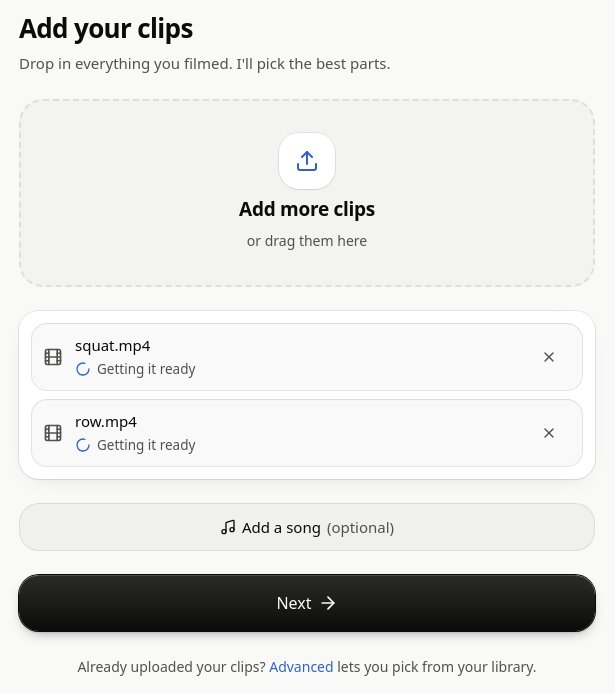
Scenario: 'Change' on the last screen goes to that question and comes straight back
Earlier steps of the test are not shown.
Click the button "Next" at {"x": 307, "y": 602}, box [19, 574, 595, 630]
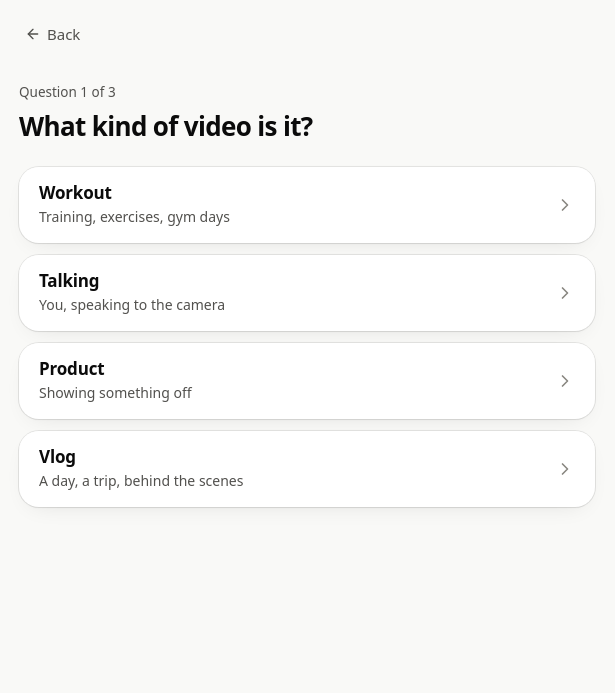
Click the button "Workout Training, exercises, gym days" at {"x": 75, "y": 192}, box [19, 166, 595, 242]
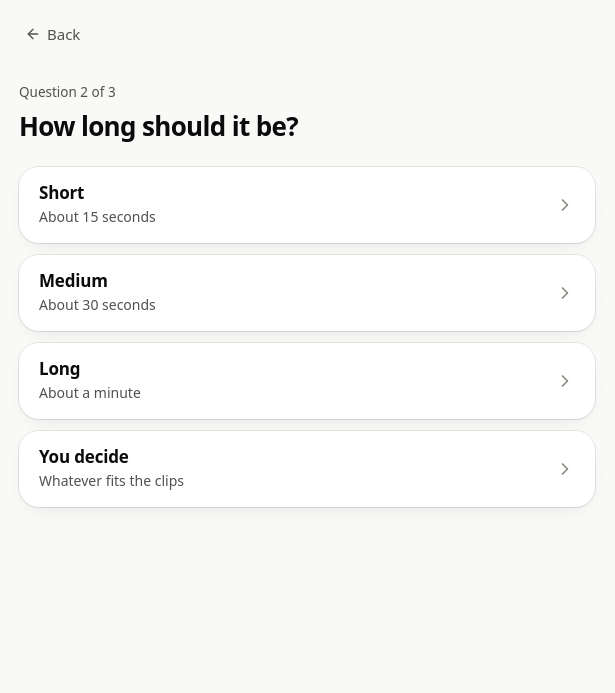
Click the button "Medium About 30 seconds" at {"x": 73, "y": 280}, box [19, 254, 595, 330]
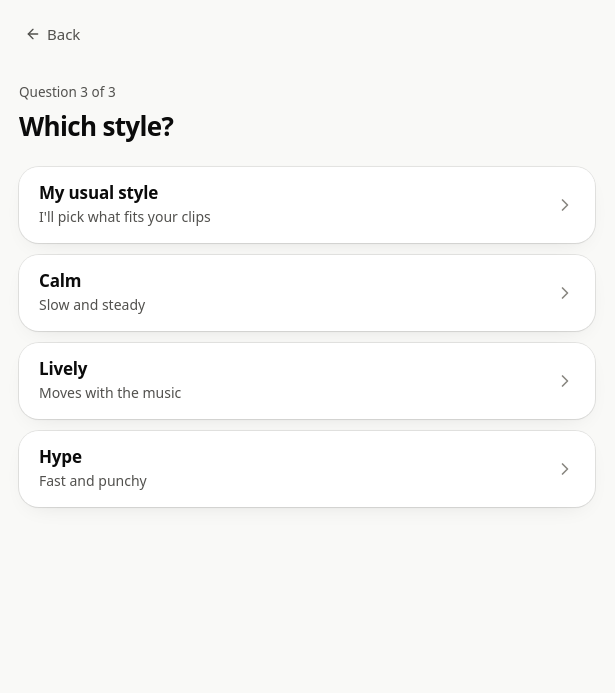
Click the button "My usual style I'll pick what fits your clips" at {"x": 99, "y": 192}, box [19, 166, 595, 242]
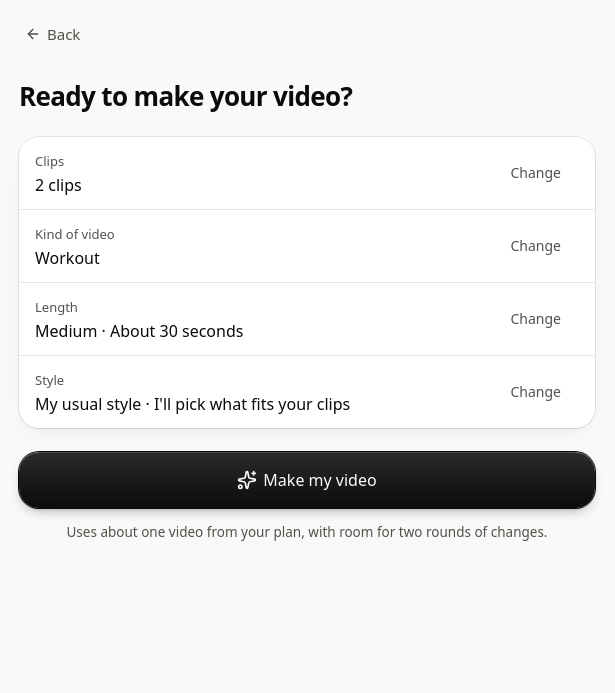
Expected: the heading "Ready to make your video?" is shown, [19, 78, 352, 114]
Click the button with aria-label "Change length" at {"x": 536, "y": 318}, box [492, 296, 579, 340]
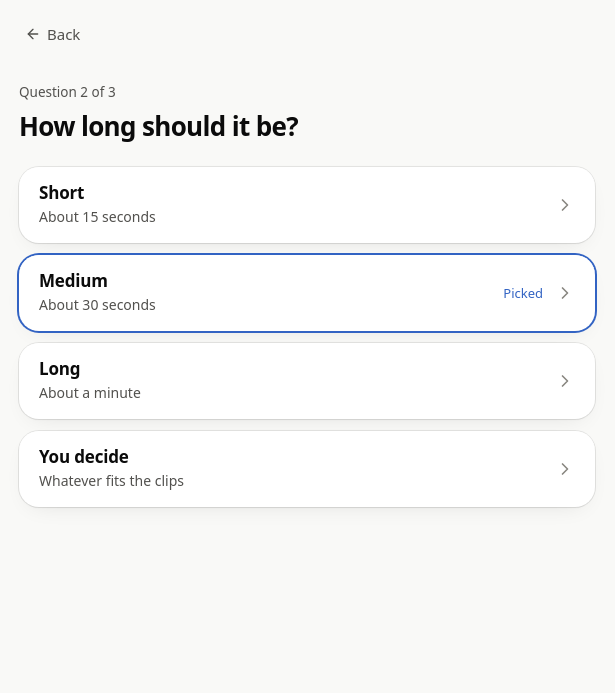
Expected: the heading "How long should it be?" is shown, [19, 108, 298, 144]
Click the button "Long About a minute" at {"x": 60, "y": 368}, box [19, 342, 595, 418]
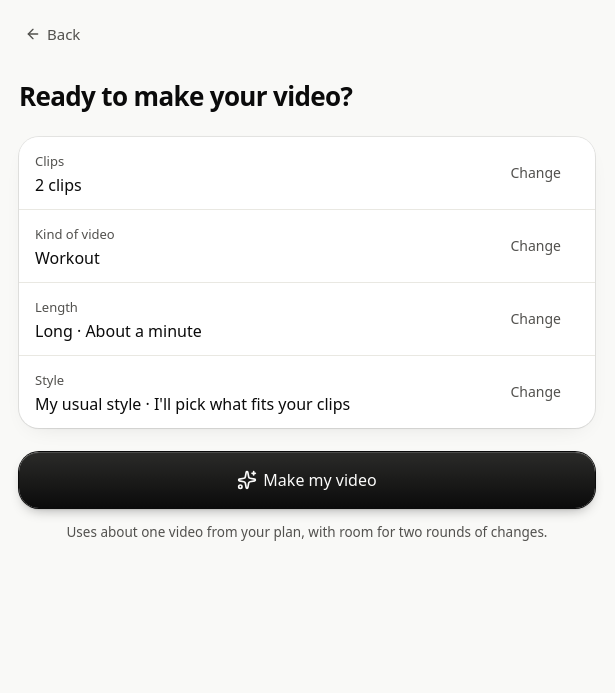
Expected: the heading "Ready to make your video?" is shown, [19, 78, 352, 114]
Expected: the text "Long · About a minute" is shown, [35, 320, 202, 342]
